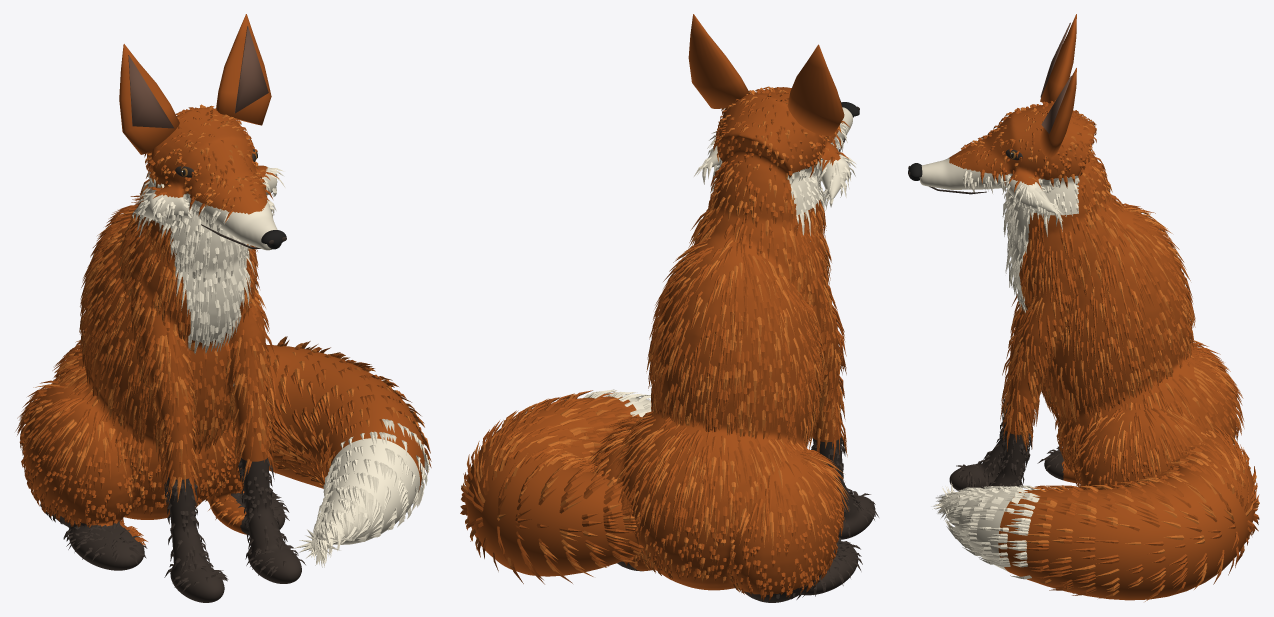
File: SM_Fox_ReferenceSculpt.fbx
3 views of the same model, side by side, from view 1: azimuth 30°, elevation 25°; view 2: azimuth 150°, elevation 25°; view 3: azimuth 270°, elevation 25° (orthographic). The views are drawn at different scales.
Parts seen in each view (by area): view 1: SM_Fox_ContinuousSculpt, SM_Fox_LayeredBodyFur, SM_Fox_BrushTail, SM_Fox_LayeredTailFur, SM_Fox_Ear_-1, SM_Fox_Ear_1, SM_Fox_InnerEar_-1, SM_Fox_InnerEar_1; view 2: SM_Fox_LayeredBodyFur, SM_Fox_ContinuousSculpt, SM_Fox_BrushTail, SM_Fox_LayeredTailFur, SM_Fox_Ear_-1, SM_Fox_Ear_1; view 3: SM_Fox_LayeredBodyFur, SM_Fox_ContinuousSculpt, SM_Fox_BrushTail, SM_Fox_LayeredTailFur, SM_Fox_Ear_-1, SM_Fox_Ear_1.
Boxes of the visible parts, x1,y1,x2,y2 form: SM_Fox_ContinuousSculpt: (23,107,301,602); SM_Fox_LayeredBodyFur: (15,104,305,593); SM_Fox_BrushTail: (266,345,424,544); SM_Fox_LayeredTailFur: (267,336,431,567); SM_Fox_Ear_-1: (119,44,179,154); SM_Fox_Ear_1: (216,14,271,125); SM_Fox_InnerEar_-1: (128,55,174,128); SM_Fox_InnerEar_1: (234,26,268,113); SM_Fox_LayeredBodyFur: (588,86,878,600); SM_Fox_ContinuousSculpt: (596,87,875,602); SM_Fox_BrushTail: (465,396,651,576); SM_Fox_LayeredTailFur: (460,389,651,584); SM_Fox_Ear_-1: (787,44,844,135); SM_Fox_Ear_1: (688,14,749,108); SM_Fox_LayeredBodyFur: (955,100,1244,489); SM_Fox_ContinuousSculpt: (919,102,1236,490); SM_Fox_BrushTail: (953,433,1255,600); SM_Fox_LayeredTailFur: (932,425,1259,601); SM_Fox_Ear_-1: (1040,14,1076,103); SM_Fox_Ear_1: (1040,68,1076,157).
Bounding box in the file's own units: 66.15 × 62.43 × 92.79.
